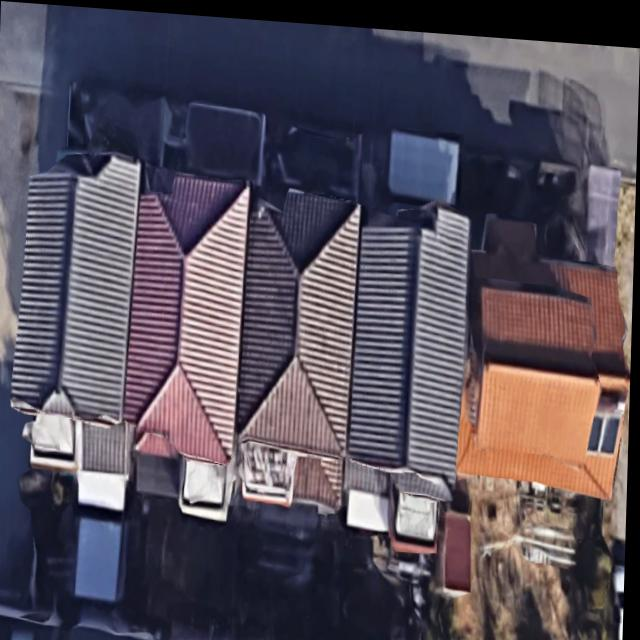Batiment: (459, 206, 631, 488), (13, 153, 140, 507), (126, 170, 250, 517), (347, 197, 471, 539), (238, 182, 361, 505)
